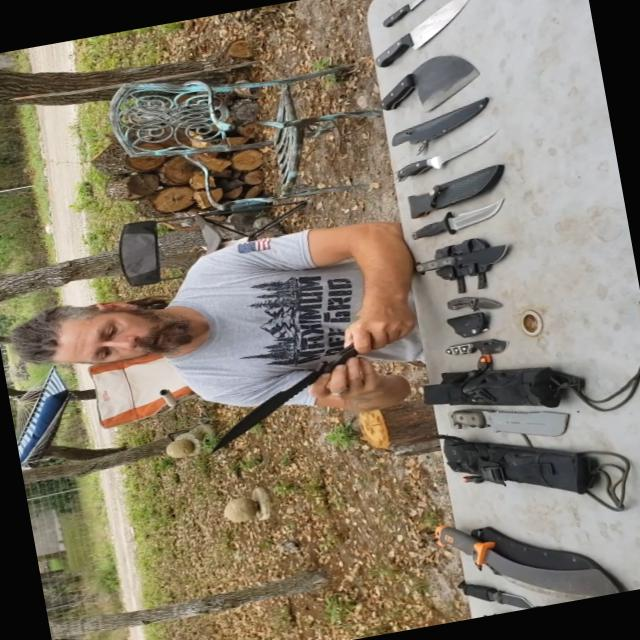knife: (186, 319, 382, 457), (419, 492, 622, 624), (426, 381, 586, 463), (347, 38, 495, 124), (365, 0, 500, 67), (388, 230, 534, 283), (426, 564, 550, 624), (392, 194, 514, 250), (379, 130, 504, 184), (425, 323, 518, 366), (424, 280, 509, 319), (360, 0, 446, 37)
